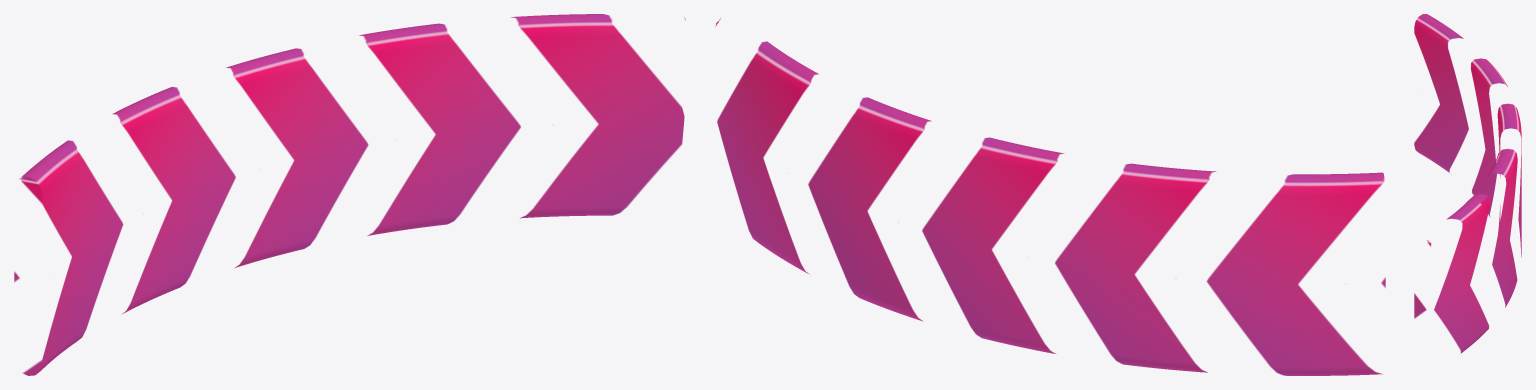
File: arrow-wall.glb
The picture shows the model from 3 angles, left to right: view 1: azimuth 30°, elevation 25°; view 2: azimuth 150°, elevation 25°; view 3: azimuth 270°, elevation 25°; orthographic projection. The views are drawn at different scales.
Visible parts, largest first — view 1: NurbsPath; view 2: NurbsPath; view 3: NurbsPath.
Boxes of the visible parts, x1,y1,x2,y2 form: NurbsPath: (14,14,685,375); NurbsPath: (715,18,1385,375); NurbsPath: (1414,14,1521,353).
Bounding box in the file's own units: 4.09 × 1.16 × 0.8109.
1 material, 1 textured.
